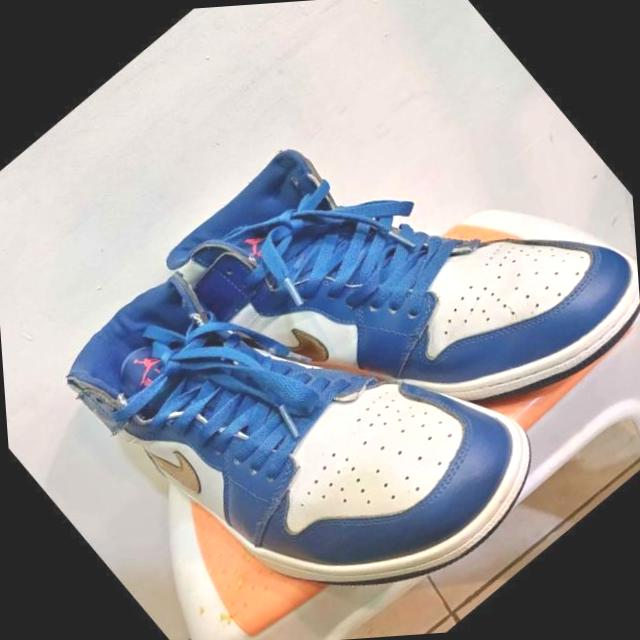nike_fake_jordan: (66, 2, 640, 612), (36, 143, 576, 640)
